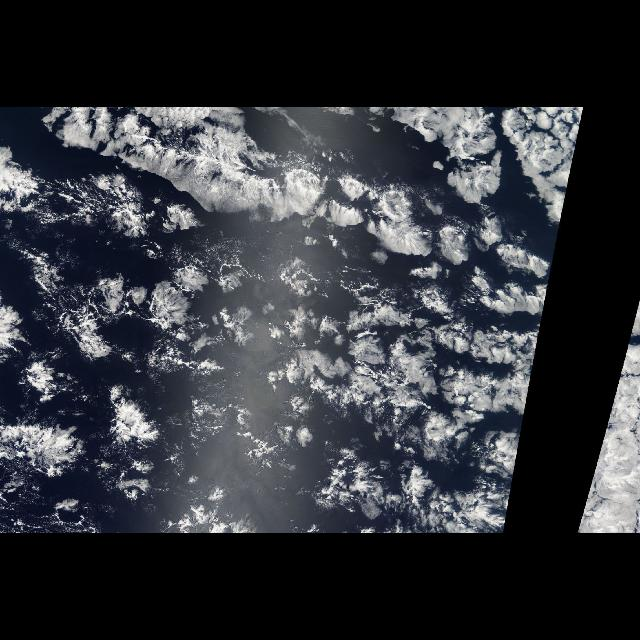Flower: (1, 116, 584, 530), (576, 492, 590, 530)
